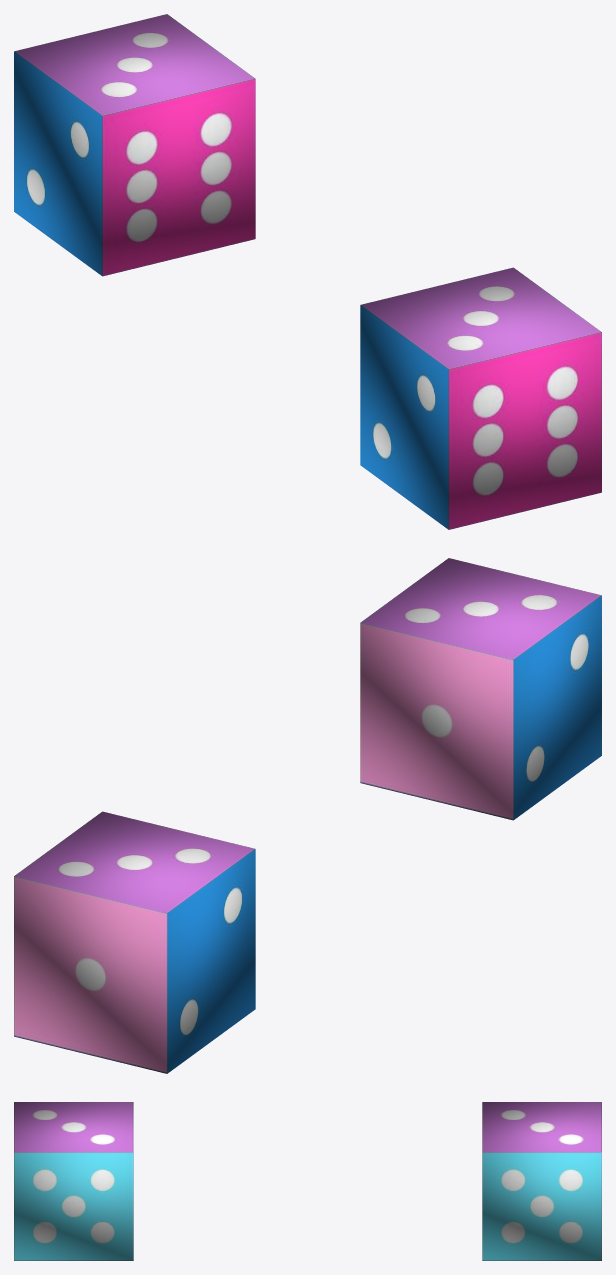
File: dados.obj
The picture shows the model from 3 angles, top to bottom: view 1: azimuth 30°, elevation 25°; view 2: azimuth 150°, elevation 25°; view 3: azimuth 270°, elevation 25°; orthographic projection. The views are drawn at different scales.
Visible parts, largest first — view 1: Box008, Box010; view 2: Box008, Box010; view 3: Box008, Box010.
Part boxes in pixels (box(x1,y1,x2,y2)): Box008: box(14, 14, 255, 276); Box010: box(360, 267, 601, 529); Box008: box(14, 811, 255, 1073); Box010: box(360, 558, 601, 820); Box008: box(482, 1102, 601, 1260); Box010: box(14, 1102, 133, 1260).
Size of the model in its own units: 2.4 by 2.4 by 11.8.
